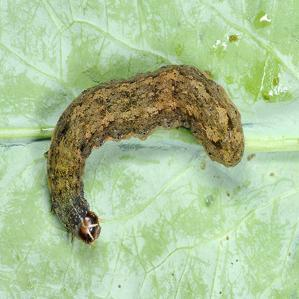Tobacco cutworm: (28, 44, 257, 259)
